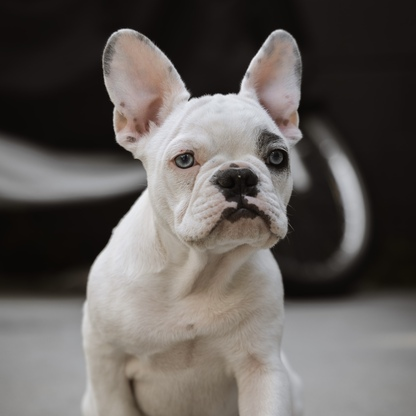bulldog: (80, 29, 315, 413)
